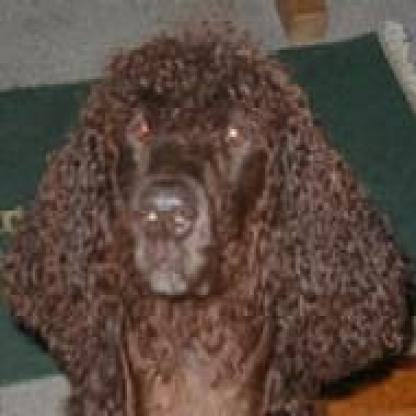Irish_water_spaniel: (5, 29, 400, 411)
